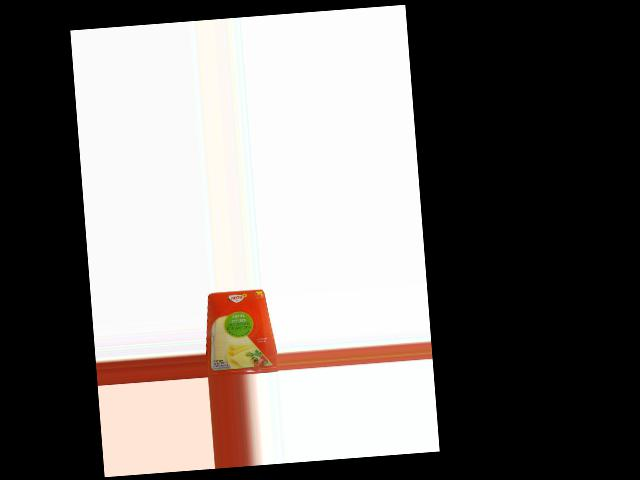cheese: (203, 288, 279, 377)
